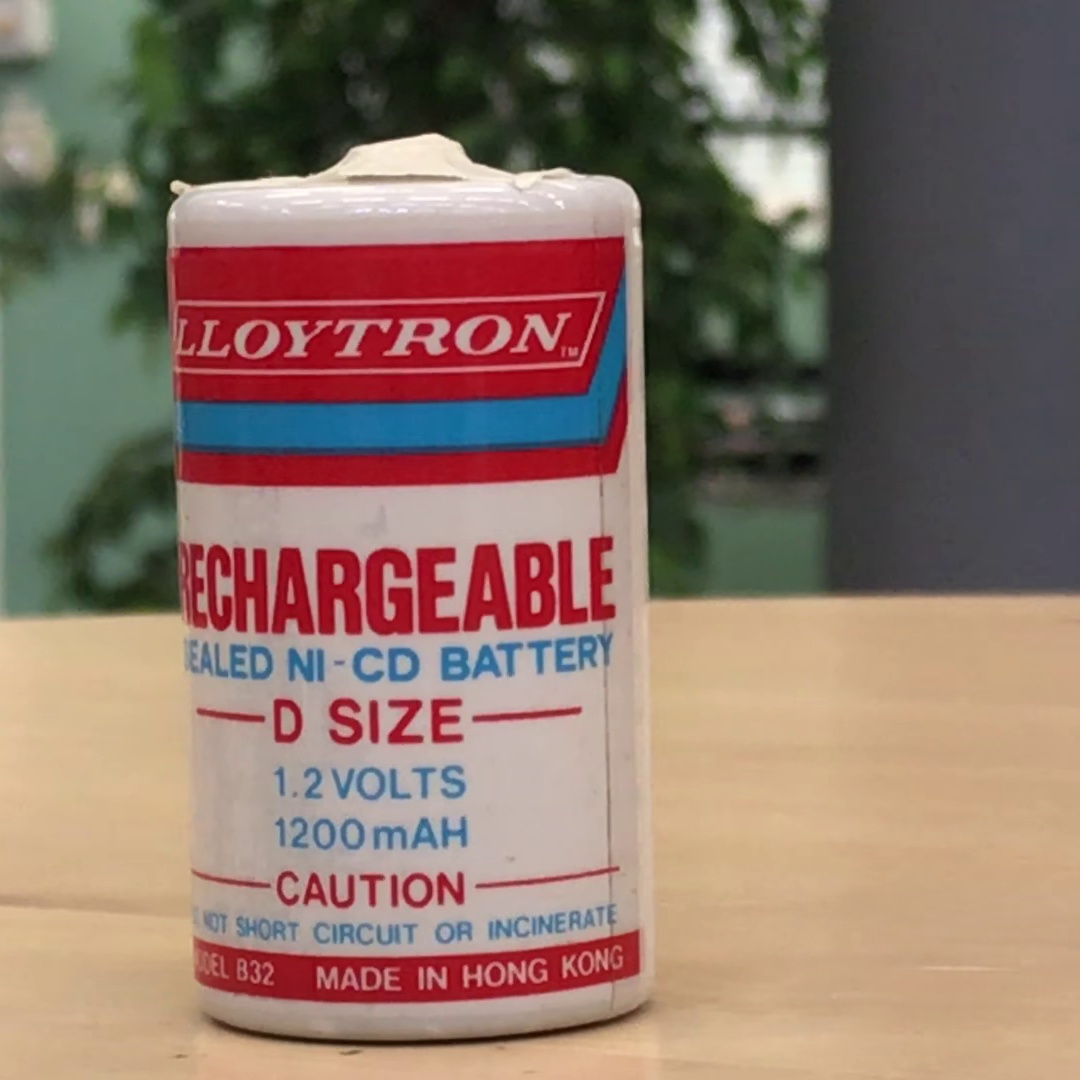keyword: (265, 759, 362, 806)
